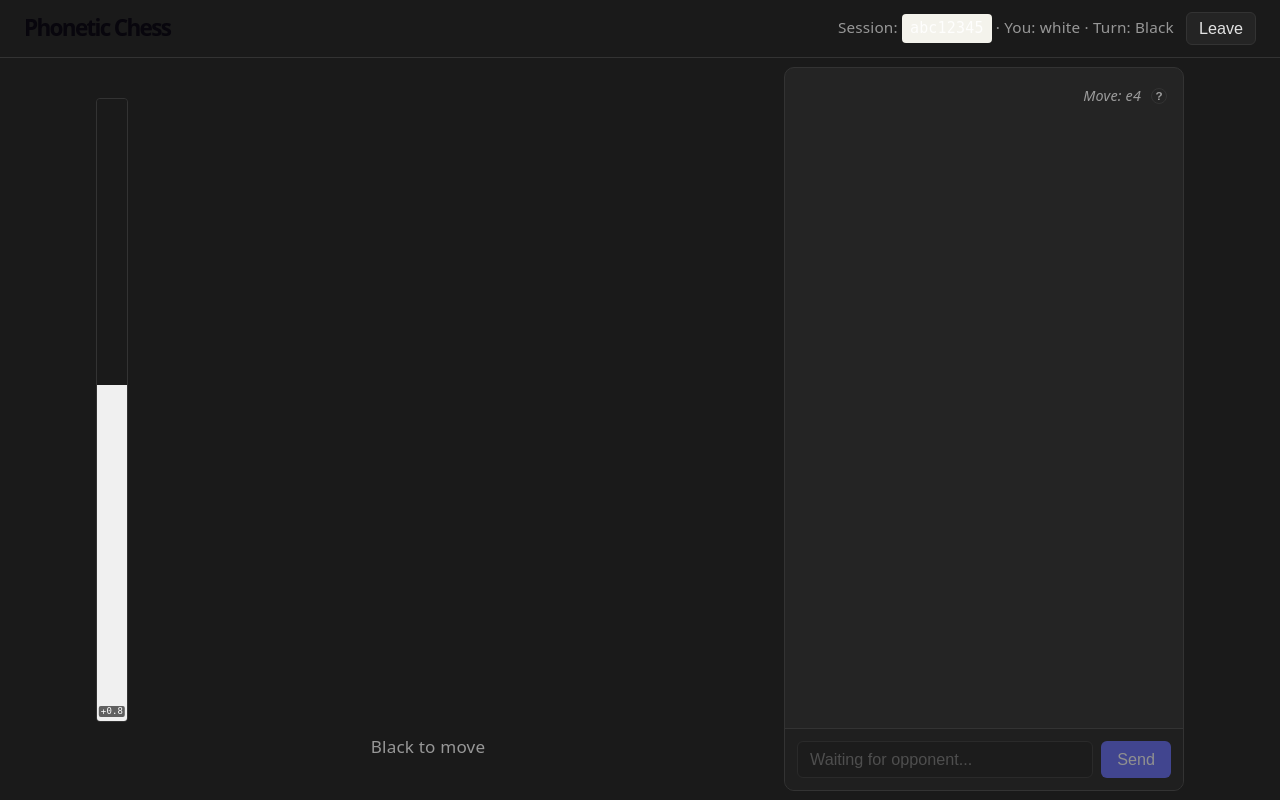
Test: invariant 5 — the first press generates › asks the server for this move's explanation and shows it
The width and height of the screenshot is (1280, 800).
Click the button named "why this move" at (1159, 96), box [1151,88,1167,104]
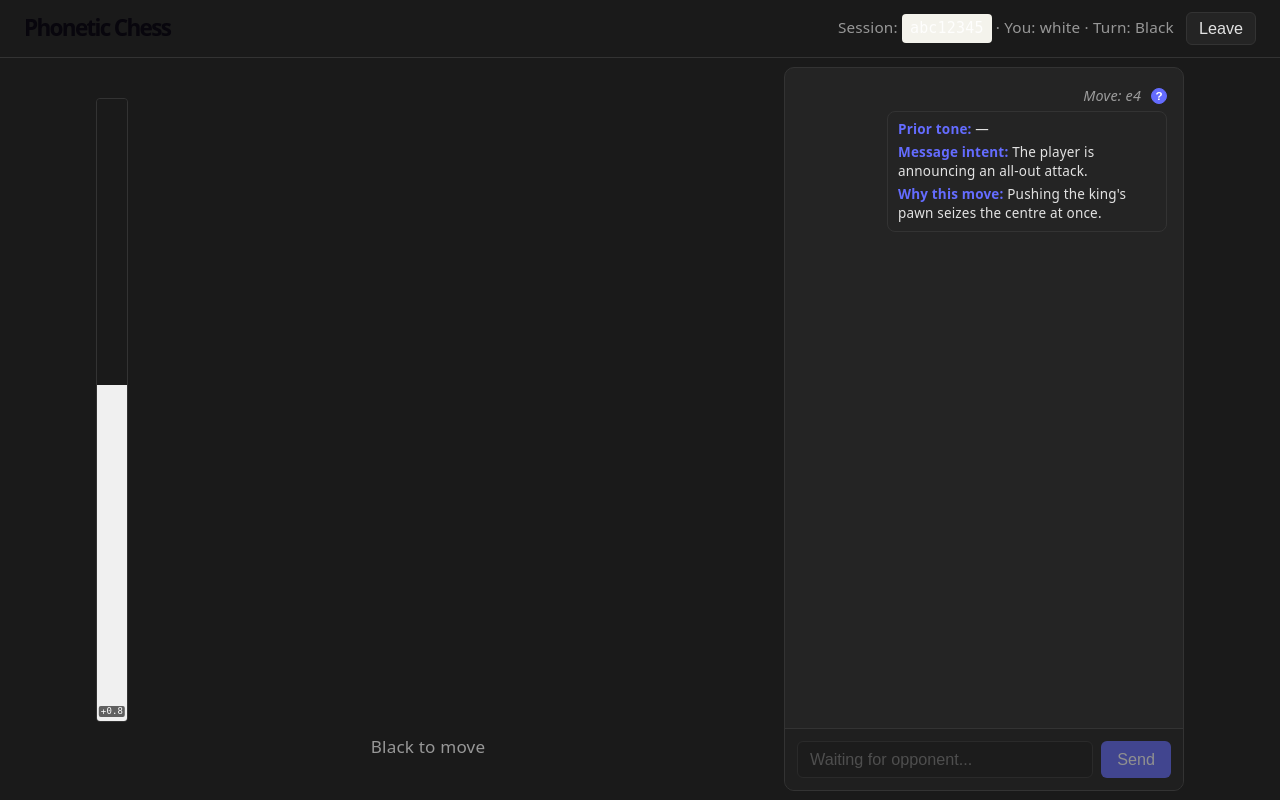
Expected: the text "The player is announcing an all-out attack." is shown, [898,143,1094,180]
Expected: the text "Pushing the king's pawn seizes the centre at once." is shown, [898,185,1126,222]
